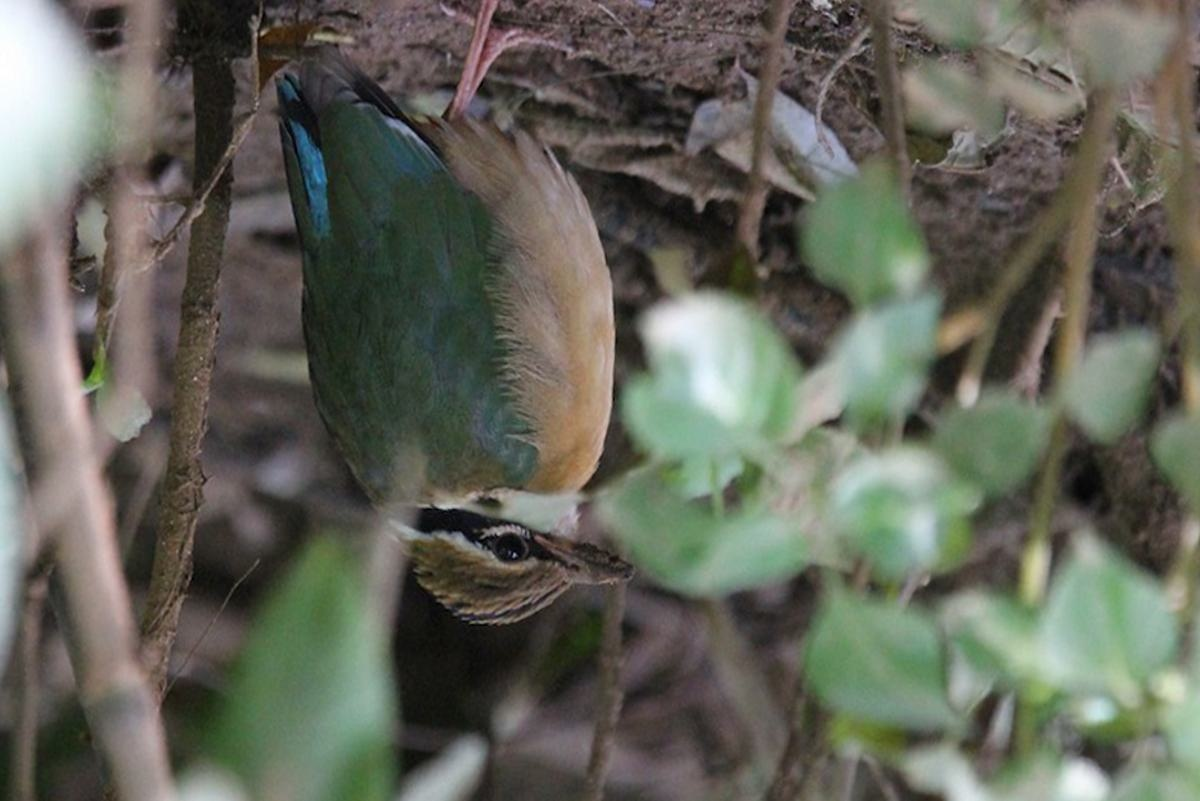pitta: (249, 36, 676, 651)
